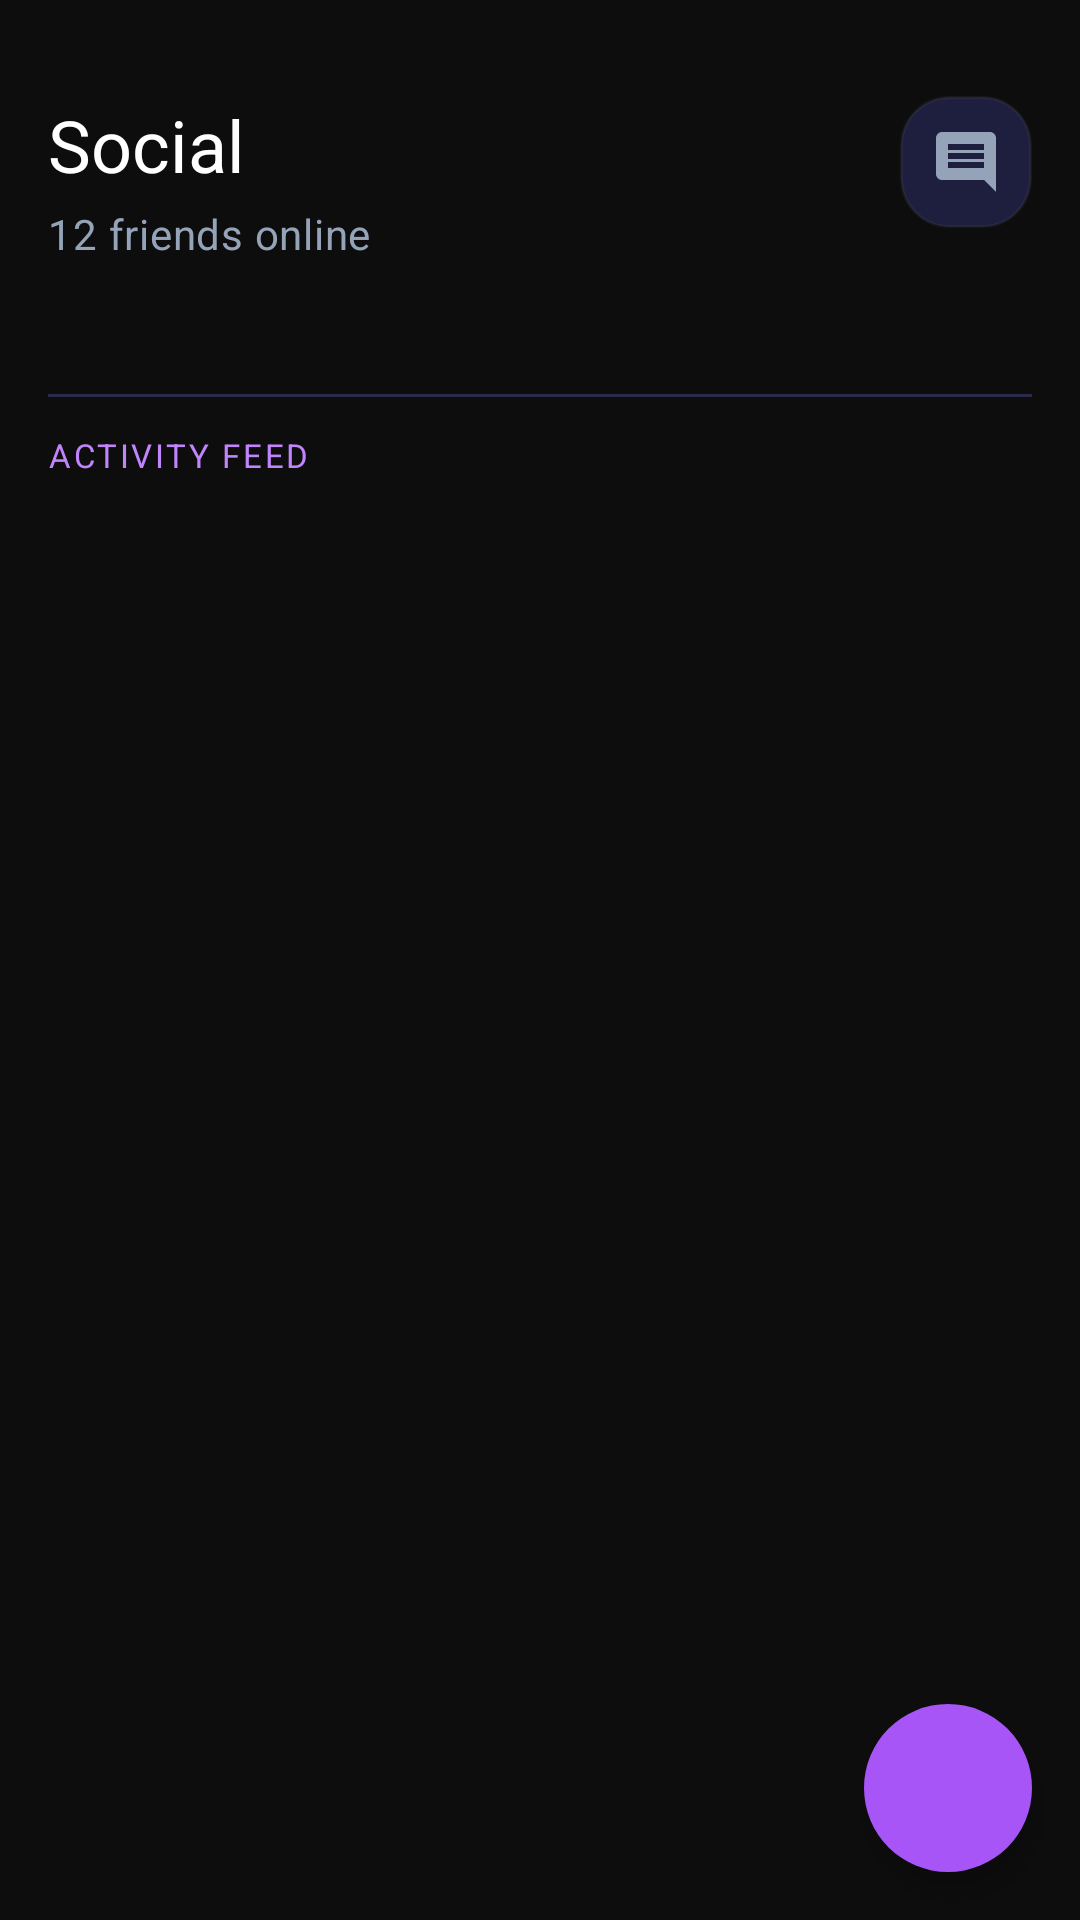

Named icons in this screenshot (1080w x 1920h) and their bounding boxes, (x1, y1, x2, y2):
Message: (901, 97, 1031, 227)
